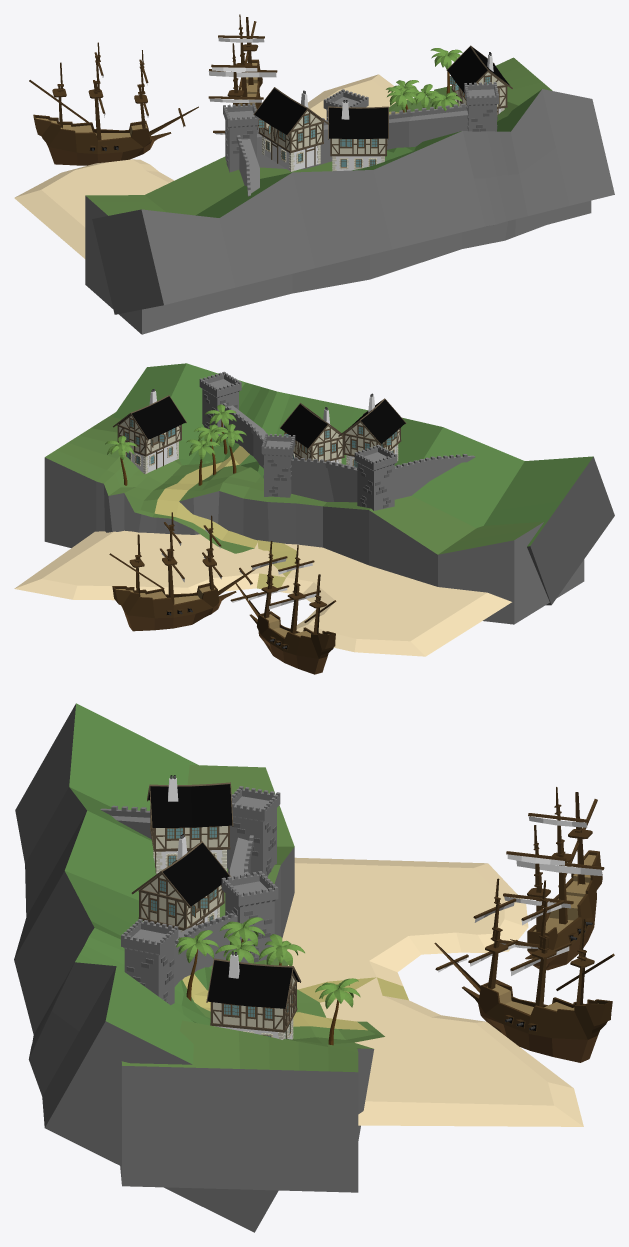
Rendered from main_menu.glb.
3 views of the same model, one above another, from view 1: azimuth 30°, elevation 25°; view 2: azimuth 150°, elevation 25°; view 3: azimuth 270°, elevation 25° (orthographic). The views are drawn at different scales.
Visible parts, largest first — view 1: Plane.003, Plane.002, Plane, hull.001, hull.002, Cube.233, Cube.004, Cube.482, Cube.620, Cube.235, Cube.165, Cube.234 (+6 smaller); view 2: Plane.002, Plane, Plane.003, hull.002, hull.001, Cube.234, Cube.235, Cube.165, Cube.620, Cube.233, Cube.003, Cube.482 (+10 smaller); view 3: Plane.003, Plane, Plane.002, hull.002, hull.001, Cube.481, Cube.619, Cube.003, Cube.233, Cube.096, Cube.165, Cube.345 (+8 smaller).
Part boxes in pixels (x1,y1,x2,y2): Plane.003: (92, 89, 614, 314); Plane.002: (85, 57, 591, 334); Plane: (14, 74, 407, 258); hull.001: (29, 42, 198, 165); hull.002: (208, 14, 277, 134); Cube.233: (387, 103, 468, 149); Cube.004: (329, 107, 388, 139); Cube.482: (254, 88, 306, 134); Cube.620: (447, 47, 487, 93); Cube.235: (236, 135, 259, 196); Cube.165: (225, 120, 256, 172); Cube.234: (257, 117, 332, 169); Plane.002: (44, 412, 584, 624); Plane: (14, 530, 511, 656); Plane.003: (113, 363, 614, 605); hull.002: (109, 512, 255, 631); hull.001: (230, 541, 336, 674); Cube.234: (291, 457, 357, 502); Cube.235: (394, 454, 475, 499); Cube.165: (357, 463, 394, 510); Cube.620: (131, 396, 185, 439); Cube.233: (222, 403, 266, 467); Cube.003: (280, 404, 327, 448); Cube.482: (360, 399, 405, 443); Plane.003: (14, 703, 278, 1232); Plane: (282, 857, 583, 1126); Plane.002: (120, 765, 384, 1192); hull.002: (434, 878, 614, 1062); hull.001: (499, 787, 604, 970); Cube.481: (150, 784, 232, 827); Cube.619: (207, 960, 292, 1008); Cube.003: (163, 843, 229, 906); Cube.233: (174, 913, 237, 986); Cube.096: (124, 942, 174, 1005); Cube.165: (228, 808, 276, 876); Cube.345: (141, 875, 222, 927).
Bounding box in the file's own units: 10.57 × 4.36 × 8.55.
